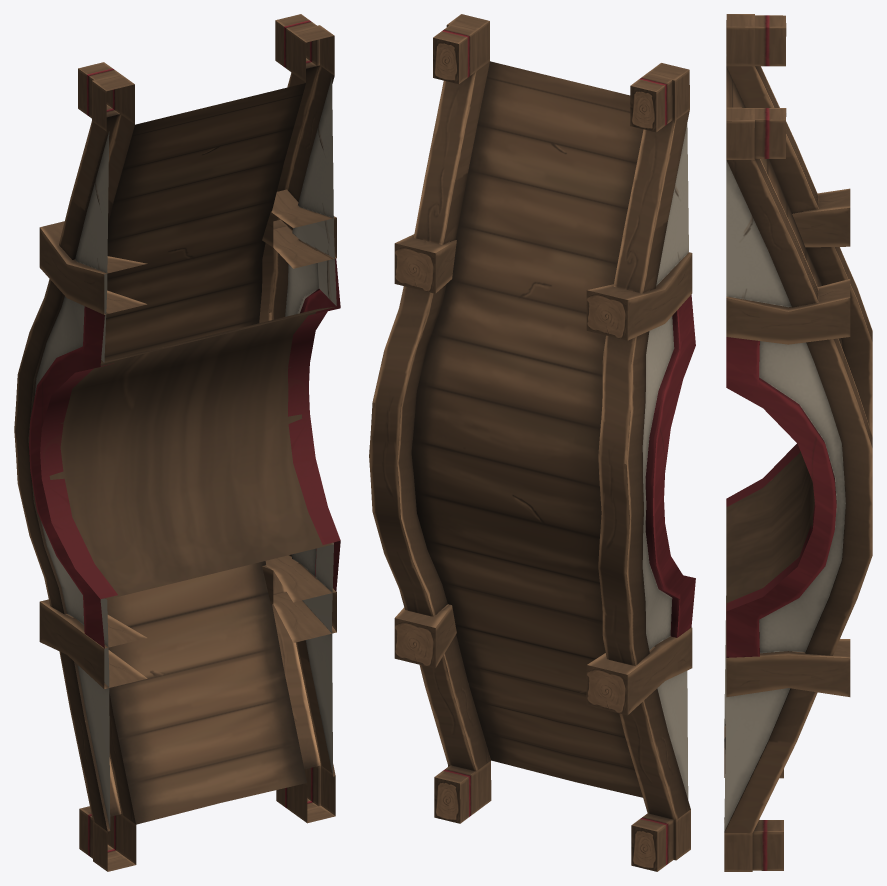
File: Bridge.fbx
3 renders of one model, left to right at view 1: azimuth 30°, elevation 25°; view 2: azimuth 150°, elevation 25°; view 3: azimuth 270°, elevation 25°, orthographic. The views are drawn at different scales.
Parts seen in each view (by area): view 1: Puente; view 2: Puente; view 3: Puente.
Boxes of the visible parts, x1,y1,x2,y2 form: Puente: (14, 14, 340, 871); Puente: (369, 14, 695, 871); Puente: (724, 14, 872, 871).
Size of the model in its own units: 7.22 by 20.03 by 3.59.
